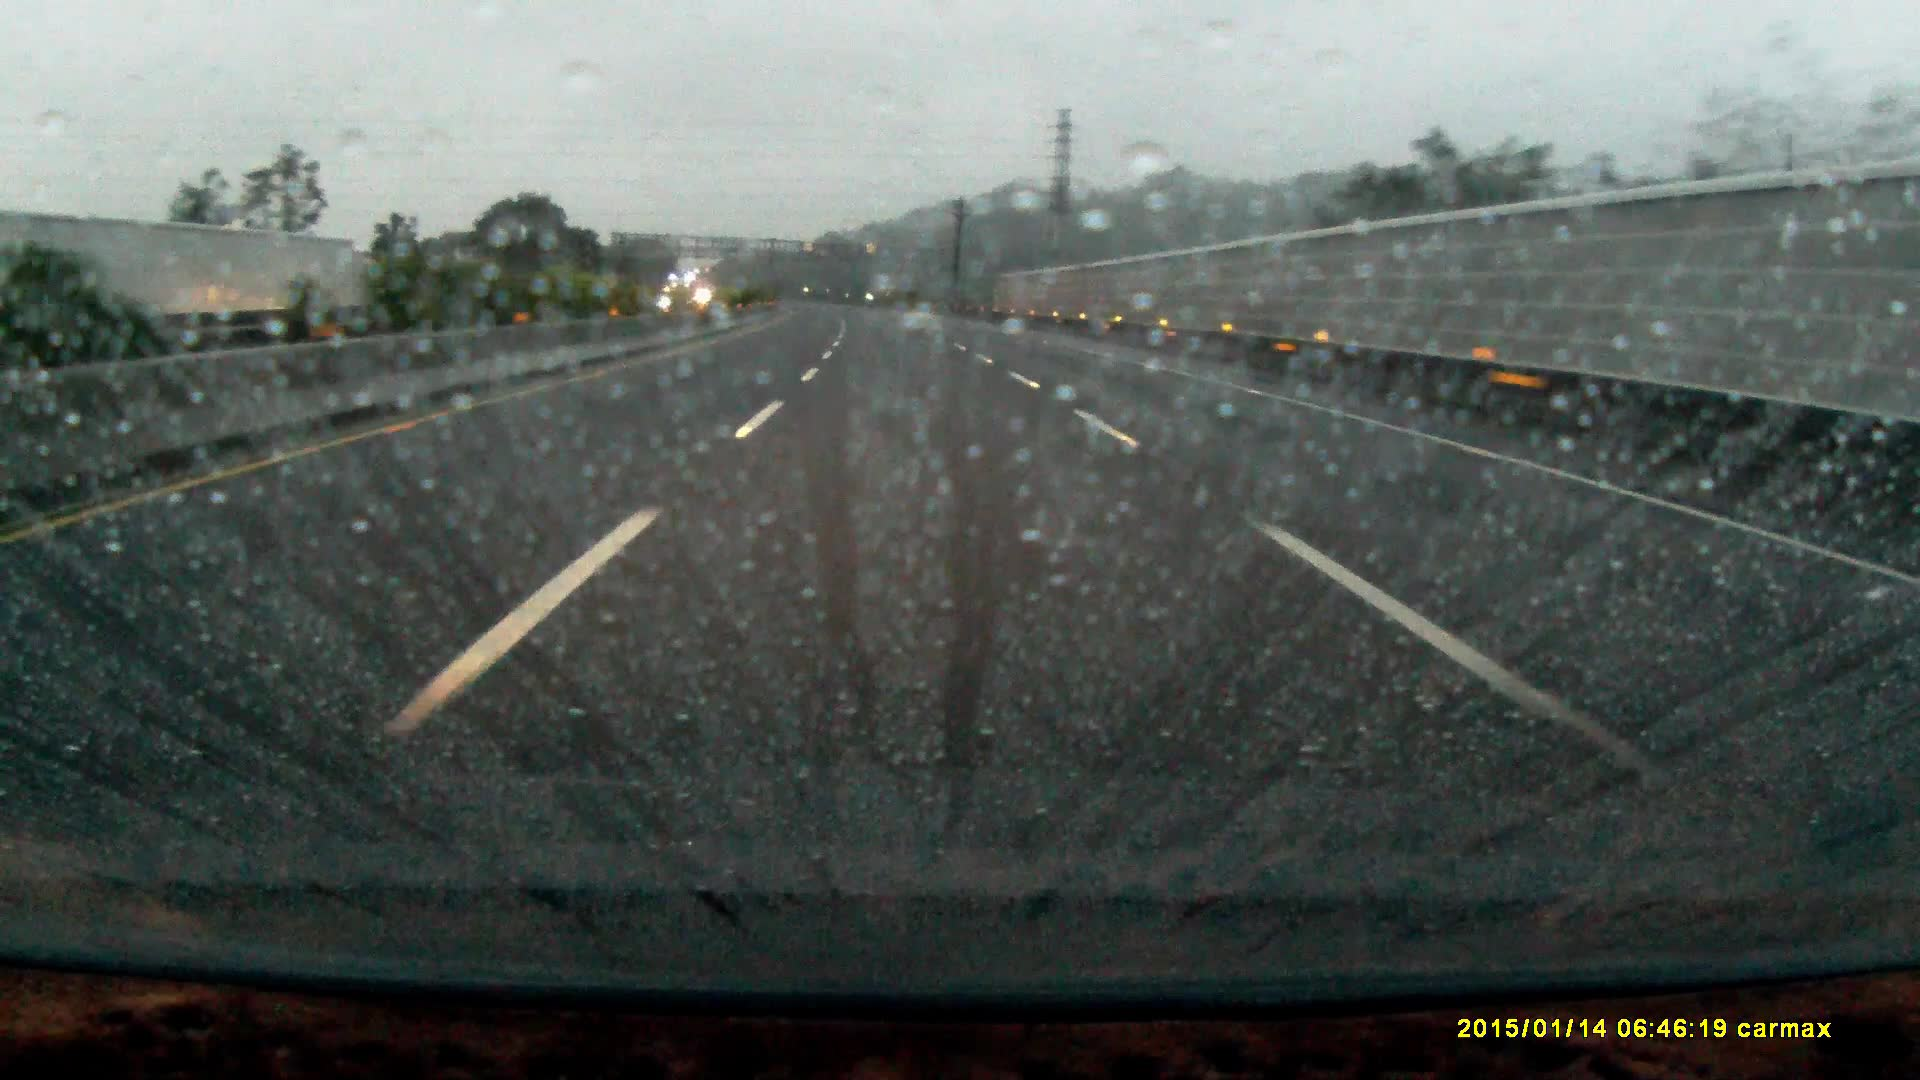vehicle: (665, 270, 702, 301)
